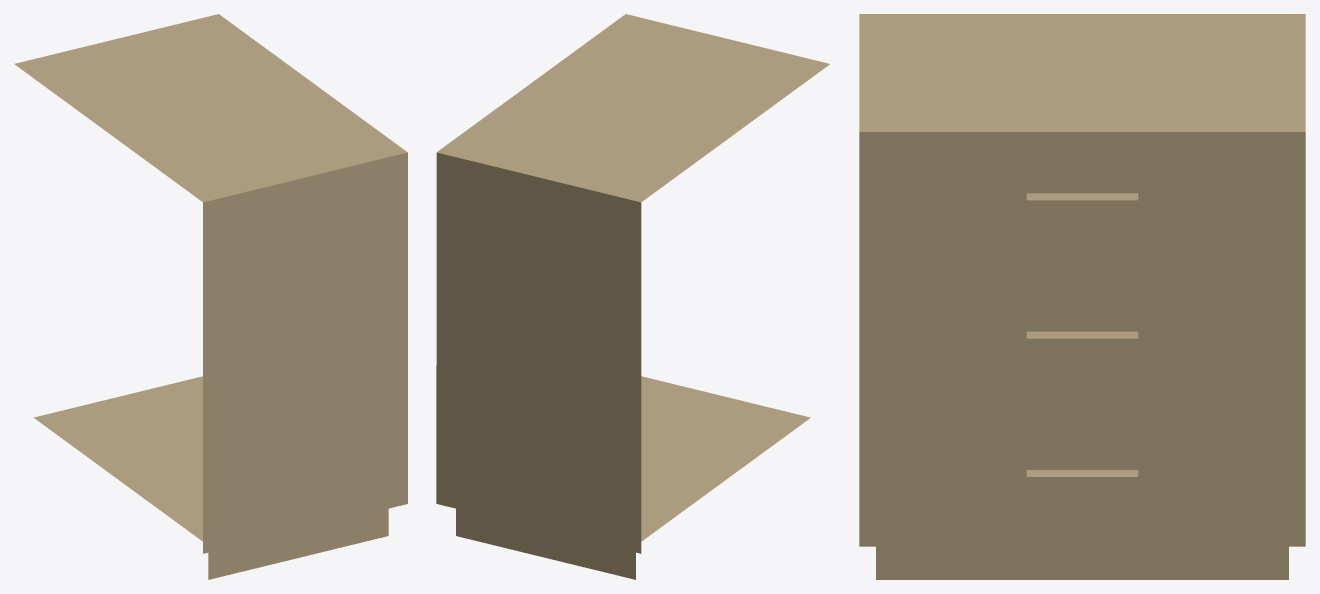
File: drawers_01.glb
3 views of the same model, side by side, from view 1: azimuth 30°, elevation 25°; view 2: azimuth 150°, elevation 25°; view 3: azimuth 270°, elevation 25° (orthographic). The views are drawn at different scales.
Visible parts, largest first — view 1: geometry_0; view 2: geometry_0; view 3: geometry_0.
Boxes of the visible parts, box(x1,y1,x2,y2) form: geometry_0: box(14, 14, 407, 579); geometry_0: box(436, 14, 829, 579); geometry_0: box(859, 14, 1305, 579).
Size of the model in its own units: 0.5302 by 0.9001 by 0.8001.
